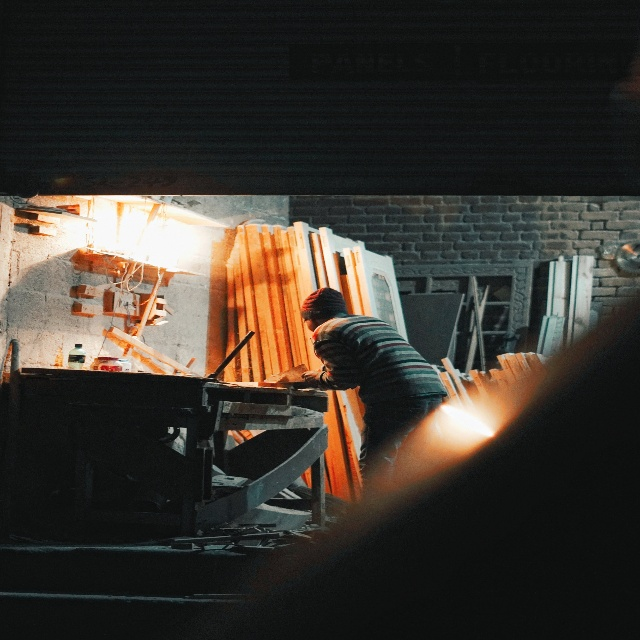Sin_guantes: (301, 369, 318, 386)
